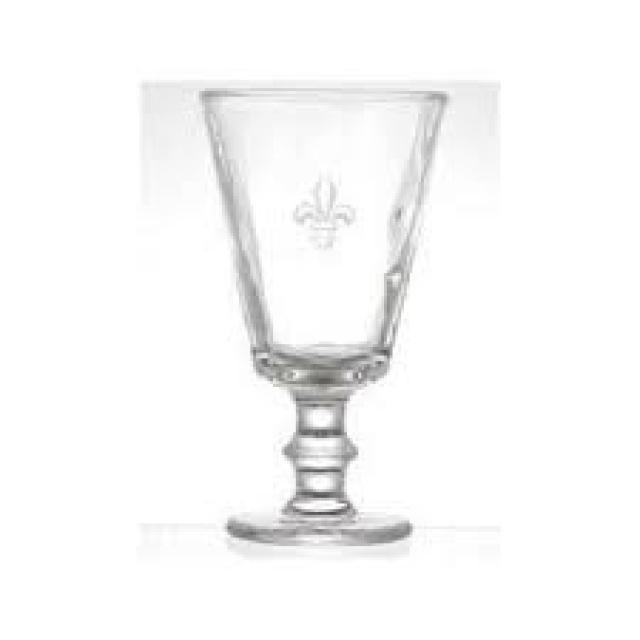Glass: (200, 89, 450, 542)
